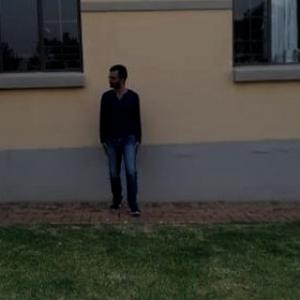follow: (99, 62, 142, 210)
